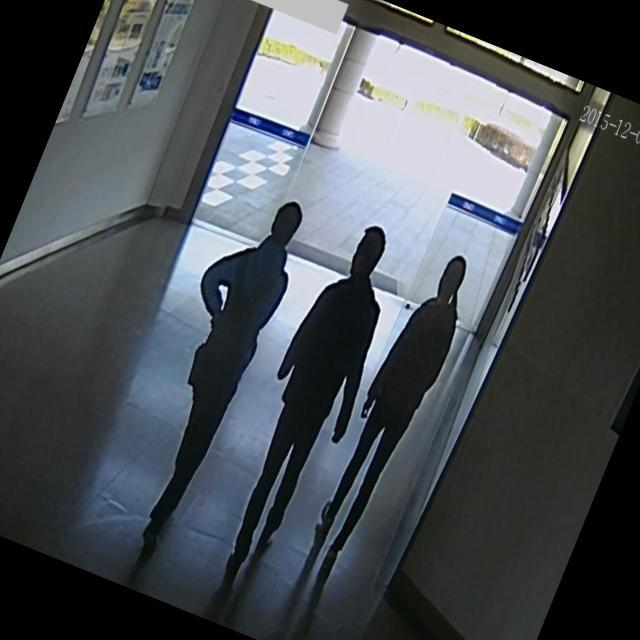person: (84, 145, 339, 582), (194, 208, 424, 604), (296, 235, 492, 576)
